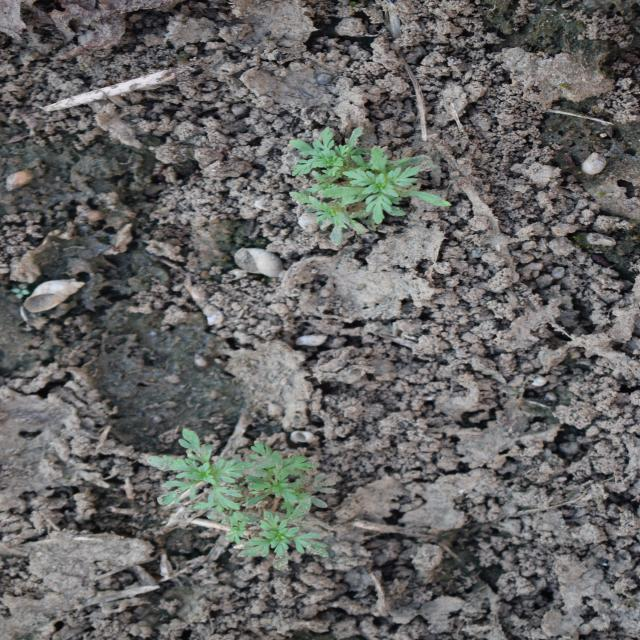Ragweed: (144, 427, 340, 573), (286, 124, 458, 247)
